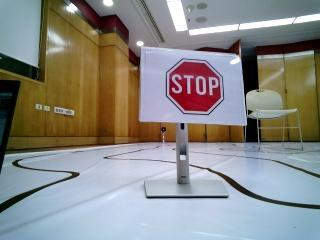stop: (151, 54, 241, 126)
